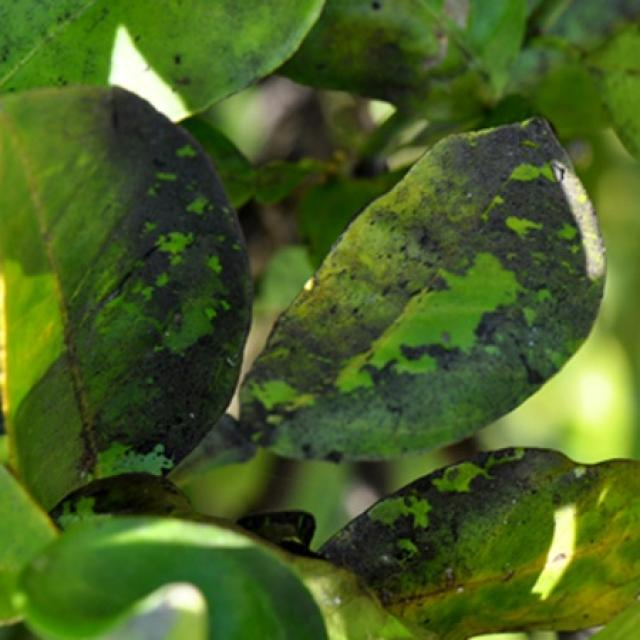Sooty Mold: (236, 112, 609, 464), (314, 442, 639, 639)
